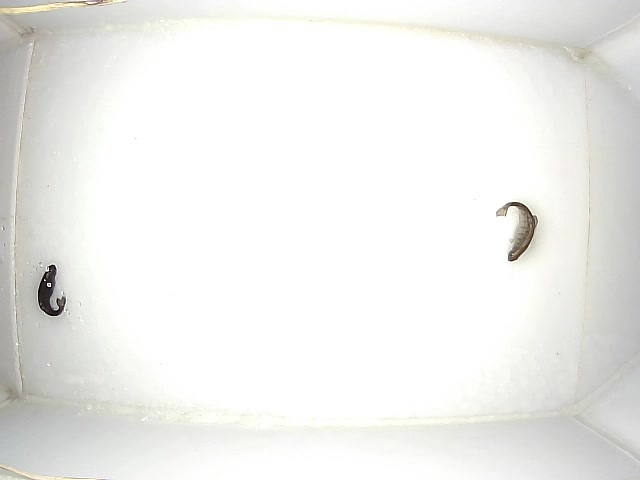fish: (496, 202, 538, 262), (38, 264, 66, 316)
